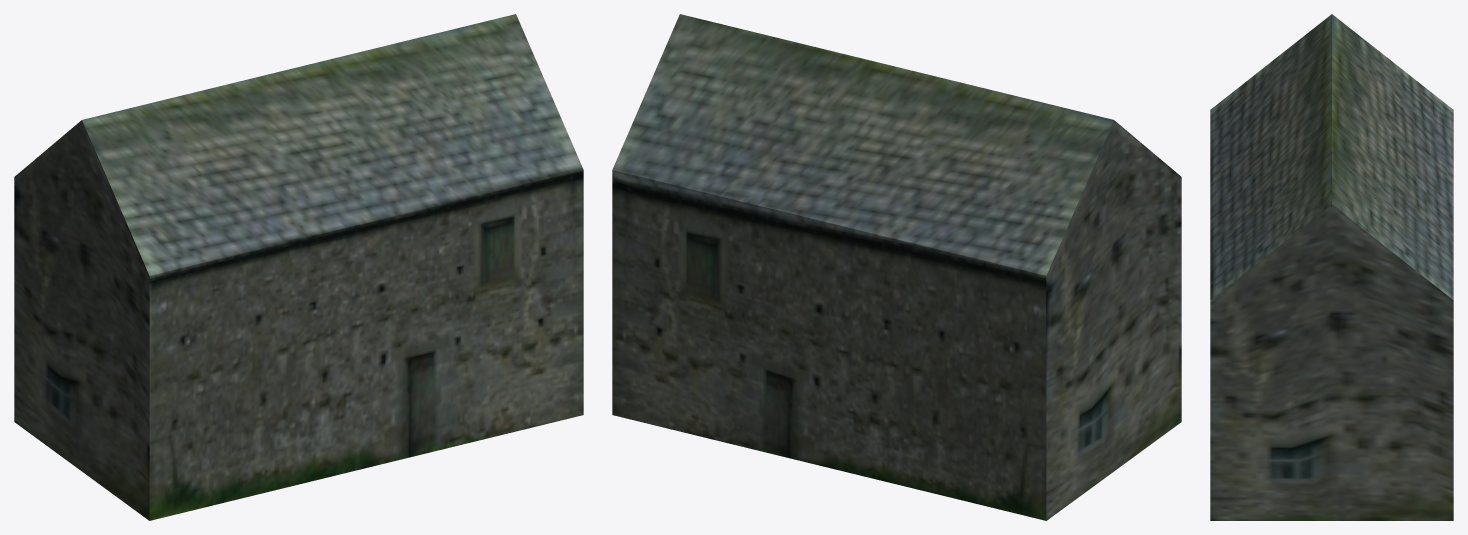
Rendered from stonehouse.glb.
3 views of the same model, side by side, from view 1: azimuth 30°, elevation 25°; view 2: azimuth 150°, elevation 25°; view 3: azimuth 270°, elevation 25° (orthographic). The views are drawn at different scales.
Visible parts, largest first — view 1: Cube.001; view 2: Cube.001; view 3: Cube.001.
Part boxes in pixels (left/top/right/bottom): Cube.001: left=14, top=14, right=583, bottom=520; Cube.001: left=612, top=14, right=1181, bottom=520; Cube.001: left=1210, top=14, right=1453, bottom=520.
Size of the model in its own units: 3.71 by 2.87 by 2.
2 materials, 1 textured.
